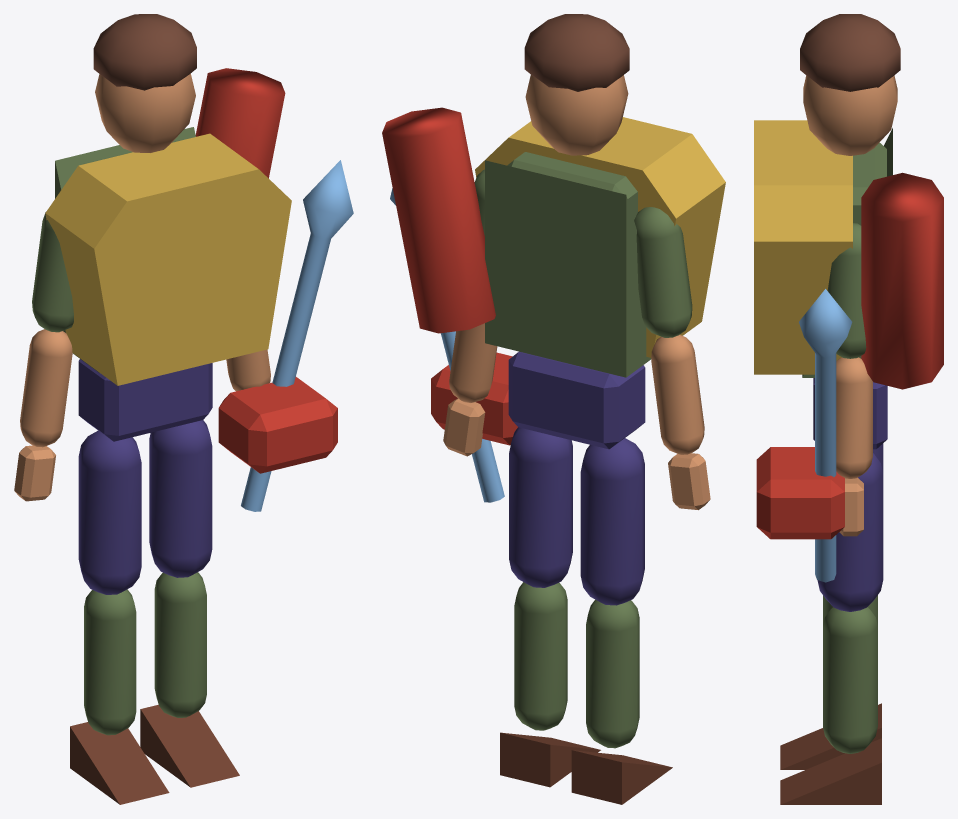
The model's file is adventurer.rustic.glb.
3 views of the same model, side by side, from view 1: azimuth 30°, elevation 25°; view 2: azimuth 150°, elevation 25°; view 3: azimuth 270°, elevation 25° (orthographic).
Visible parts, largest first — view 1: accessory.body, thigh.left, thigh.right, accessory.waist, pelvis, shin.left, shin.right, accessory.main-hand, accessory.back, hair, head, foot.right (+6 smaller); view 2: tunic, accessory.back, accessory.body, pelvis, thigh.left, thigh.right, shin.right, shin.left, hair, upper-arm.left, head, forearm.left (+8 smaller); view 3: accessory.body, accessory.back, shin.right, accessory.waist, hair, accessory.main-hand, head, thigh.right, foot.right, forearm.right, upper-arm.right, foot.left (+3 smaller).
Part boxes in pixels (bbox=[...]): accessory.body: bbox=[45, 133, 291, 385]; thigh.left: bbox=[78, 430, 141, 594]; thigh.right: bbox=[149, 420, 212, 577]; accessory.waist: bbox=[218, 377, 337, 473]; pelvis: bbox=[78, 359, 212, 441]; shin.left: bbox=[84, 589, 136, 735]; shin.right: bbox=[154, 572, 206, 717]; accessory.main-hand: bbox=[241, 160, 353, 511]; accessory.back: bbox=[195, 68, 285, 178]; hair: bbox=[93, 14, 196, 90]; head: bbox=[95, 73, 195, 152]; foot.right: bbox=[140, 704, 239, 787]; tunic: bbox=[485, 160, 651, 377]; accessory.back: bbox=[382, 107, 495, 333]; accessory.body: bbox=[475, 117, 725, 357]; pelvis: bbox=[508, 351, 645, 449]; thigh.left: bbox=[580, 438, 644, 605]; thigh.right: bbox=[509, 427, 572, 587]; shin.right: bbox=[514, 582, 567, 730]; shin.left: bbox=[586, 599, 639, 748]; hair: bbox=[524, 14, 629, 91]; upper-arm.left: bbox=[634, 207, 692, 337]; head: bbox=[525, 75, 628, 155]; forearm.left: bbox=[651, 334, 704, 454]; accessory.body: bbox=[754, 120, 852, 374]; accessory.back: bbox=[861, 172, 943, 389]; shin.right: bbox=[823, 607, 877, 753]; accessory.waist: bbox=[756, 447, 844, 539]; hair: bbox=[800, 14, 900, 91]; accessory.main-hand: bbox=[799, 289, 852, 582]; head: bbox=[803, 75, 897, 155]; thigh.right: bbox=[817, 453, 883, 611]; foot.right: bbox=[780, 738, 881, 804]; forearm.right: bbox=[836, 357, 872, 478]; upper-arm.right: bbox=[827, 223, 866, 358]; foot.left: bbox=[780, 703, 881, 769].
Bounding box in the file's own units: 1.37 × 3.03 × 0.69.
